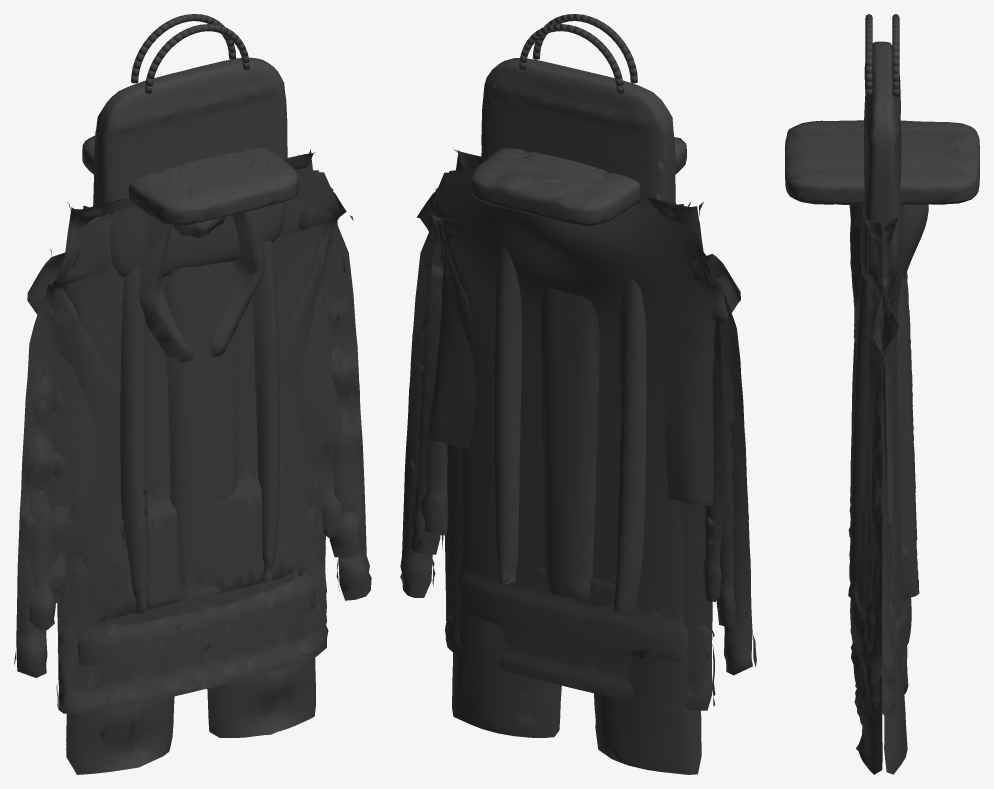
The model's file is garments.glb.
The picture shows the model from 3 angles, left to right: view 1: azimuth 30°, elevation 25°; view 2: azimuth 150°, elevation 25°; view 3: azimuth 270°, elevation 25°; orthographic projection. The views are drawn at different scales.
Visible parts, largest first — view 1: GX_hoodie, GX_jacket, GX_tank, GX_bag, GX_pants, GX_shorts, GX_fold, GX_long, GX_tee; view 2: GX_hoodie, GX_tank, GX_jacket, GX_bag, GX_pants, GX_shorts, GX_fold, GX_long, GX_tee; view 3: GX_fold, GX_hoodie, GX_tank, GX_jacket, GX_bag, GX_pants, GX_shorts, GX_tee, GX_long.
Part boxes in pixels (left/top/right/bottom): GX_hoodie: left=27, top=169, right=362, bottom=666; GX_jacket: left=14, top=172, right=371, bottom=713; GX_tank: left=120, top=240, right=279, bottom=613; GX_bag: left=93, top=14, right=287, bottom=277; GX_pants: left=65, top=154, right=315, bottom=774; GX_shorts: left=47, top=149, right=341, bottom=506; GX_fold: left=82, top=135, right=298, bottom=225; GX_long: left=49, top=169, right=341, bottom=625; GX_tee: left=27, top=168, right=353, bottom=320; GX_hoodie: left=410, top=170, right=735, bottom=663; GX_tank: left=493, top=245, right=646, bottom=612; GX_jacket: left=400, top=172, right=756, bottom=710; GX_bag: left=481, top=14, right=675, bottom=212; GX_pants: left=452, top=155, right=701, bottom=774; GX_shorts: left=427, top=149, right=714, bottom=506; GX_fold: left=470, top=137, right=686, bottom=226; GX_long: left=421, top=196, right=724, bottom=606; GX_tee: left=416, top=169, right=740, bottom=328; GX_fold: left=785, top=120, right=979, bottom=204; GX_hoodie: left=850, top=204, right=928, bottom=665; GX_tank: left=848, top=271, right=919, bottom=599; GX_jacket: left=849, top=205, right=907, bottom=717; GX_bag: left=860, top=14, right=903, bottom=281; GX_pants: left=854, top=203, right=908, bottom=774; GX_shorts: left=862, top=204, right=898, bottom=524; GX_tee: left=867, top=233, right=898, bottom=353; GX_long: left=856, top=226, right=897, bottom=619.
Size of the model in its own units: 0.6474 by 1.27 by 0.3202.
1 material, 1 textured.
